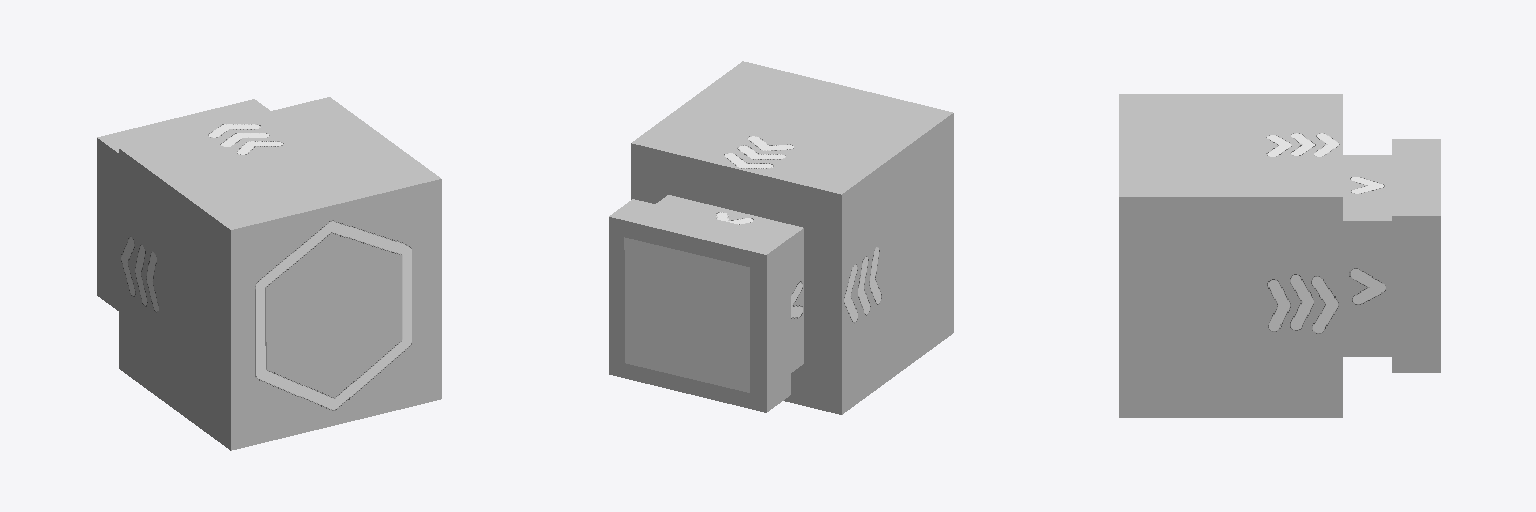
3 renders of one model, left to right at view 1: azimuth 30°, elevation 25°; view 2: azimuth 150°, elevation 25°; view 3: azimuth 270°, elevation 25°, orthographic.
Visible parts, largest first — view 1: Cube; view 2: Cube; view 3: Cube.
Boxes of the visible parts, box(x1,y1,x2,y2) form: Cube: box(97, 97, 441, 450); Cube: box(609, 61, 953, 414); Cube: box(1119, 94, 1440, 417).
Bounding box in the file's own units: 0.7573 × 0.7573 × 1.
1 materials, 1 textured.